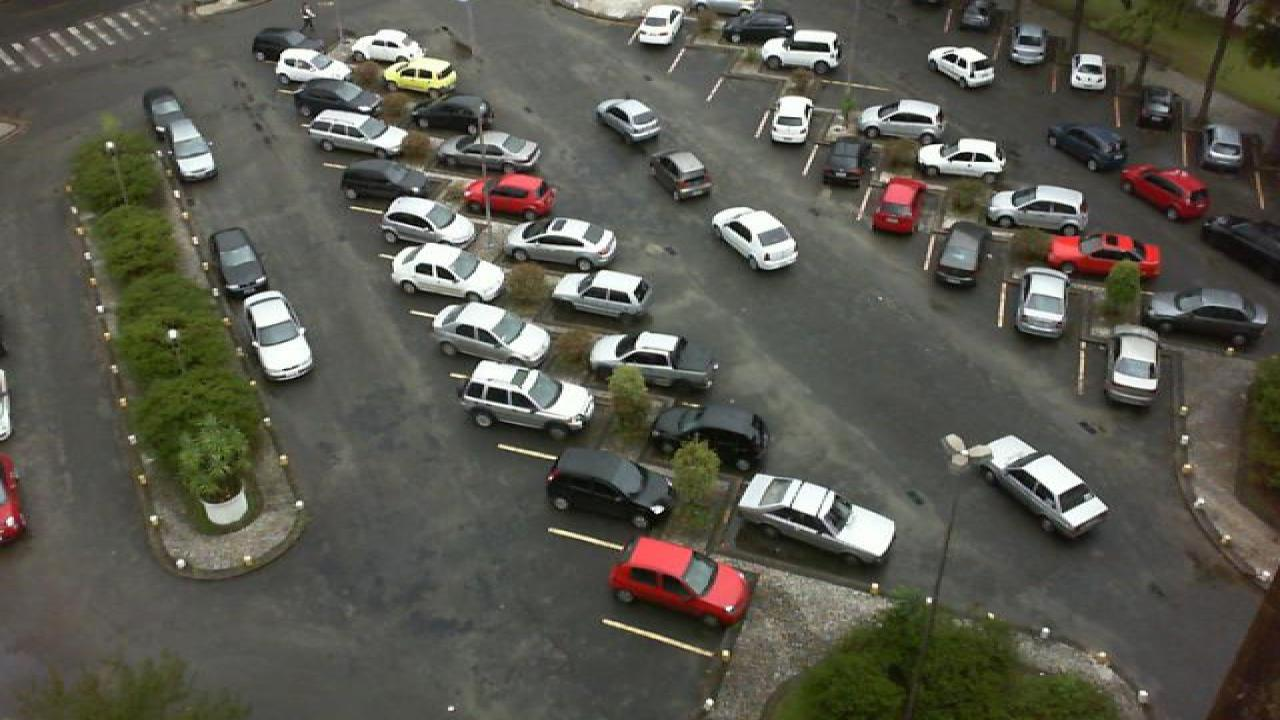Car: (736, 471, 898, 567), (982, 434, 1110, 538), (610, 537, 752, 629), (544, 449, 674, 529), (458, 361, 596, 434), (652, 401, 772, 474), (428, 300, 556, 364), (1146, 284, 1268, 348), (588, 332, 720, 389), (388, 243, 508, 304), (240, 289, 316, 383), (504, 216, 620, 271), (710, 206, 800, 271), (378, 195, 478, 251), (1048, 232, 1164, 280), (1120, 164, 1212, 223), (302, 110, 408, 159), (210, 226, 272, 305), (550, 270, 654, 317), (988, 184, 1090, 230), (462, 171, 558, 219), (1104, 325, 1160, 405), (338, 156, 428, 205), (1198, 214, 1280, 266), (1012, 268, 1070, 340), (1046, 123, 1128, 173), (856, 98, 946, 143), (436, 131, 542, 168), (292, 78, 380, 121), (932, 222, 990, 286), (162, 116, 218, 182), (270, 48, 352, 93), (916, 137, 1006, 178), (408, 92, 492, 135), (648, 150, 716, 202), (870, 176, 928, 234), (926, 45, 998, 89), (382, 55, 460, 95), (756, 39, 842, 75), (594, 98, 662, 143), (250, 26, 324, 66), (0, 454, 32, 546), (820, 136, 874, 187), (142, 87, 194, 137), (350, 28, 424, 63), (724, 9, 798, 44), (1204, 123, 1254, 172), (768, 94, 814, 144), (1132, 84, 1182, 130), (636, 4, 684, 48), (1006, 22, 1048, 66), (1070, 53, 1110, 92), (956, 0, 998, 33)
